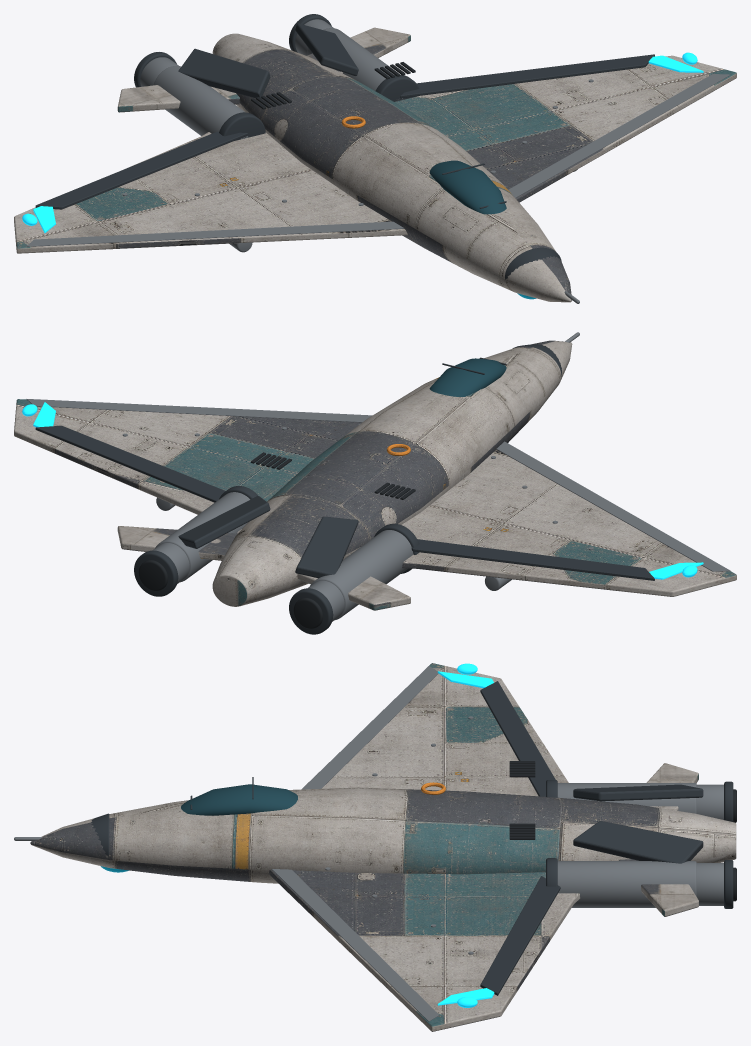
The model's file is kestrel-mk1-authored-v3.fbx.
The picture shows the model from 3 angles, top to bottom: view 1: azimuth 30°, elevation 25°; view 2: azimuth 150°, elevation 25°; view 3: azimuth 270°, elevation 25°; orthographic projection. The views are drawn at different scales.
Parts seen in each view (by area): view 1: Blended main wing, Continuous fuselage, Graphite elevon R, Engine nacelle L, Heat resistant leading edge L, Graphite elevon L, Tailplane, Heat resistant leading edge R, Canted fin L, Framed canopy, Canted fin R, Engine nacelle R (+5 smaller); view 2: Blended main wing, Continuous fuselage, Engine nacelle L, Tailplane, Graphite elevon L, Graphite elevon R, Heat resistant leading edge L, Heat resistant leading edge R, Canted fin L, Framed canopy, Canted fin R, Engine nacelle R (+6 smaller); view 3: Continuous fuselage, Blended main wing, Engine nacelle R, Canted fin R, Heat resistant leading edge R, Graphite elevon R, Framed canopy, Graphite elevon L, Heat resistant leading edge L, Tailplane, Canted fin L, Engine nacelle L (+2 smaller).
Part boxes in pixels (x1,y1,x2,y2): Blended main wing: [14, 55, 736, 253]; Continuous fuselage: [212, 33, 571, 302]; Graphite elevon R: [400, 54, 654, 98]; Engine nacelle L: [153, 66, 244, 135]; Heat resistant leading edge L: [26, 221, 404, 246]; Graphite elevon L: [35, 131, 247, 209]; Tailplane: [117, 27, 410, 112]; Heat resistant leading edge R: [508, 74, 730, 197]; Canted fin L: [178, 48, 270, 98]; Framed canopy: [429, 160, 506, 214]; Canted fin R: [295, 23, 358, 75]; Engine nacelle R: [307, 28, 398, 90]; Blended main wing: [14, 399, 736, 596]; Continuous fuselage: [212, 340, 572, 606]; Engine nacelle L: [310, 530, 413, 619]; Tailplane: [117, 526, 410, 610]; Graphite elevon L: [411, 539, 654, 580]; Graphite elevon R: [35, 425, 225, 502]; Heat resistant leading edge L: [496, 441, 730, 571]; Heat resistant leading edge R: [26, 399, 372, 422]; Canted fin L: [295, 516, 358, 578]; Framed canopy: [429, 358, 506, 396]; Canted fin R: [178, 496, 270, 548]; Engine nacelle R: [155, 492, 250, 582]; Continuous fuselage: [30, 787, 736, 883]; Blended main wing: [268, 663, 580, 1031]; Engine nacelle R: [557, 861, 696, 907]; Canted fin R: [573, 821, 703, 863]; Heat resistant leading edge R: [271, 869, 439, 1021]; Graphite elevon R: [480, 876, 560, 995]; Framed canopy: [181, 784, 297, 815]; Graphite elevon L: [480, 681, 555, 796]; Heat resistant leading edge L: [301, 666, 438, 789]; Tailplane: [619, 763, 698, 916]; Canted fin L: [573, 784, 703, 801]; Engine nacelle L: [557, 783, 696, 813].
Bounding box in the file's own units: 14.68 × 1.73 × 12.34.
Materials: 8 (1 with a texture image).
